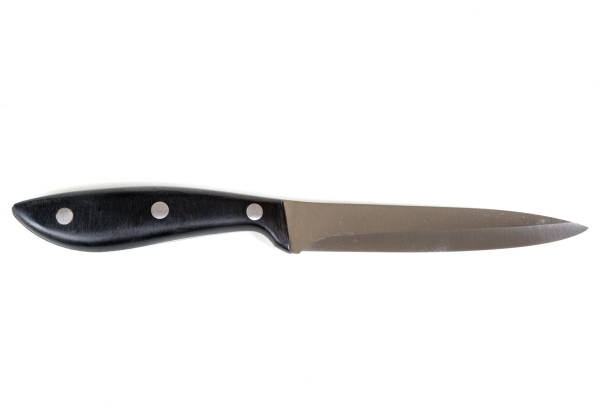knife: (9, 182, 590, 257)
